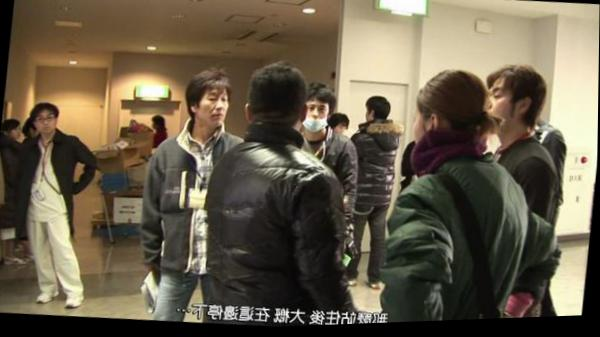NONE: (410, 106, 445, 159), (483, 89, 512, 132), (196, 92, 230, 128), (36, 112, 57, 134), (9, 124, 25, 140)
WRONG: (297, 99, 333, 136)
